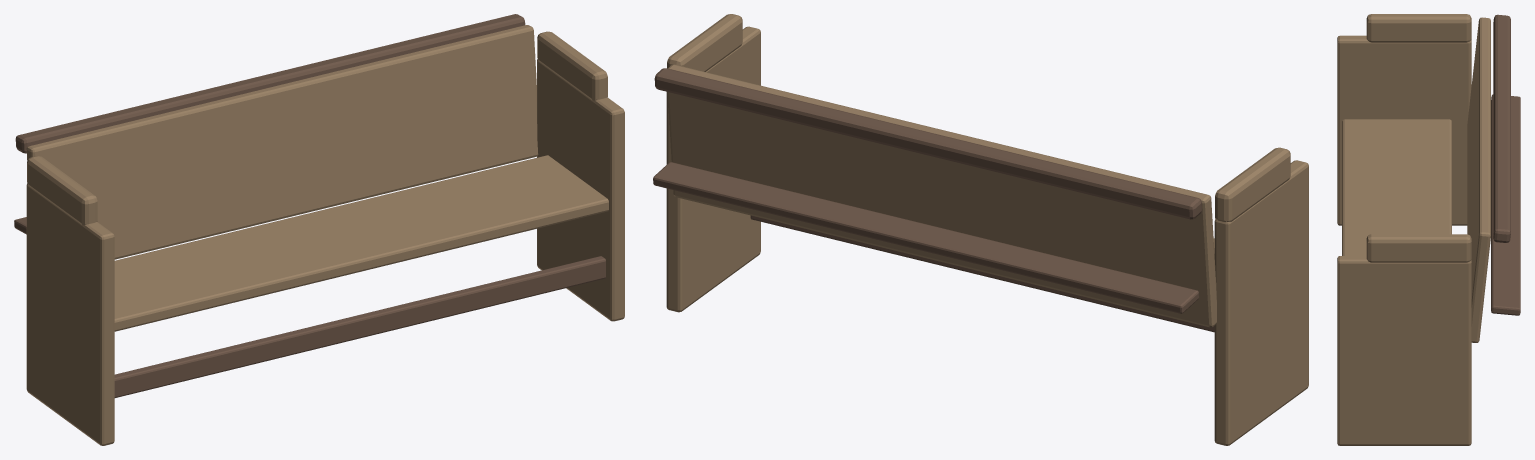
3 views of the same model, side by side, from view 1: azimuth 30°, elevation 25°; view 2: azimuth 150°, elevation 25°; view 3: azimuth 270°, elevation 25° (orthographic). The views are drawn at different scales.
Visible parts, largest first — view 1: chapelPew; view 2: chapelPew; view 3: chapelPew.
Part boxes in pixels (bbox=[...]): chapelPew: bbox=[14, 14, 624, 445]; chapelPew: bbox=[653, 14, 1308, 445]; chapelPew: bbox=[1337, 14, 1520, 445].
Size of the model in its own units: 2.2 by 0.9566 by 0.7508.
